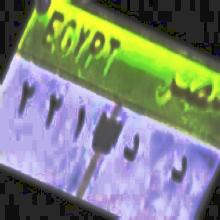1: (71, 97, 89, 151)
2: (43, 74, 66, 140), (14, 71, 37, 118)
daal: (120, 127, 145, 171), (163, 152, 192, 189)
